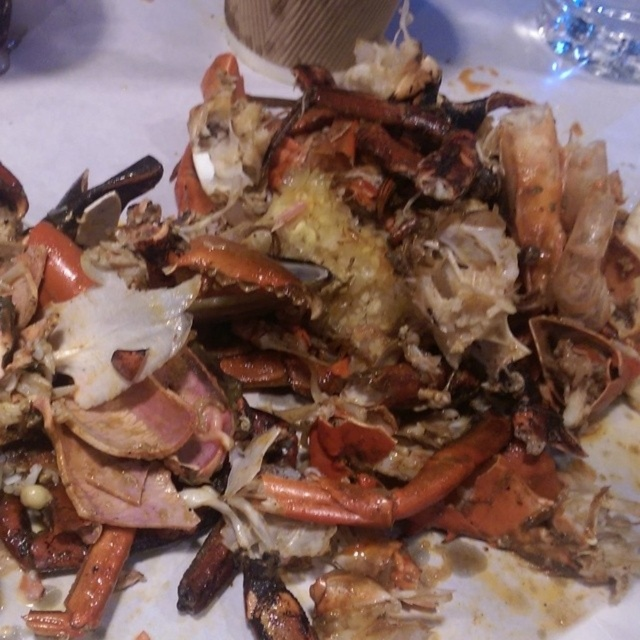Crab: (0, 35, 639, 639)
